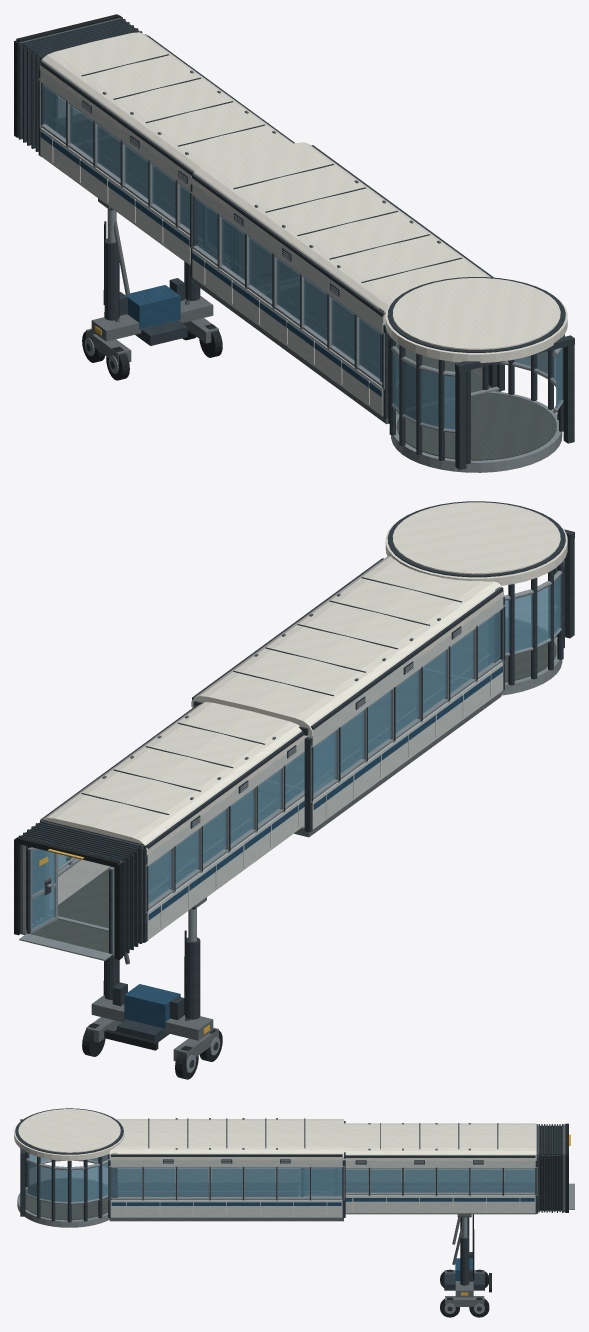
3 views of the same model, one above another, from view 1: azimuth 30°, elevation 25°; view 2: azimuth 150°, elevation 25°; view 3: azimuth 270°, elevation 25° (orthographic). The views are drawn at different scales.
Parts seen in each view (by area): view 1: VIS_Outer_VIS_Roof_Arched_Composite_Shell_003_78, VIS_Inner_VIS_Roof_Arched_Composite_Shell_003_219, VIS_Rotunda_VIS_Rotunda_Light_Stone_Roof_Center_005_5, VIS_Rotunda_VIS_Rotunda_Interior_Floor_002_2, VIS_Outer_VIS_Outer_Lower_Panel_005_80, VIS_Outer_VIS_Floor_Ribbed_AntiSlip_002_77, VIS_Inner_VIS_Outer_Lower_Panel_005_221, VIS_Inner_VIS_Floor_Ribbed_AntiSlip_002_218, VIS_Outer_VIS_Upper_Spandrel_007_82, VIS_Rotunda_VIS_Terminal_Rotunda_Base_Ring_001_1, VIS_Inner_VIS_Upper_Spandrel_007_223, VIS_Rotunda_VIS_Rotunda_Fascia_Roof_003_3 (+34 smaller); view 2: VIS_Outer_VIS_Roof_Arched_Composite_Shell_003_78, VIS_Inner_VIS_Roof_Arched_Composite_Shell_003_219, VIS_Rotunda_VIS_Rotunda_Light_Stone_Roof_Center_005_5, VIS_Inner_VIS_Floor_Ribbed_AntiSlip_002_218, VIS_Outer_VIS_Outer_Lower_Panel_005_80, VIS_Inner_VIS_Outer_Lower_Panel_005_221, VIS_Outer_VIS_Floor_Ribbed_AntiSlip_002_77, VIS_Outer_VIS_Upper_Spandrel_007_82, VIS_Rotunda_VIS_Rotunda_Interior_Floor_002_2, VIS_Inner_VIS_Upper_Spandrel_007_223, VIS_Bogie_VIS_Bogie_Central_Steering_Unit_031_390, VIS_DoorRight_VIS_Door_Tempered_Glass_Leaf_001_472 (+34 smaller); view 3: VIS_Outer_VIS_Roof_Arched_Composite_Shell_003_78, VIS_Inner_VIS_Roof_Arched_Composite_Shell_003_219, VIS_Rotunda_VIS_Rotunda_Light_Stone_Roof_Center_005_5, VIS_Outer_VIS_Outer_Lower_Panel_060_135, VIS_Inner_VIS_Outer_Lower_Panel_060_276, VIS_Inner_VIS_Outer_Lower_Panel_005_221, VIS_Outer_VIS_Outer_Lower_Panel_005_80, VIS_Rotunda_VIS_Rotunda_Interior_Floor_002_2, VIS_Outer_VIS_Floor_Ribbed_AntiSlip_002_77, VIS_Outer_VIS_Upper_Spandrel_062_137, VIS_Inner_VIS_Floor_Ribbed_AntiSlip_002_218, VIS_Inner_VIS_Upper_Spandrel_062_278 (+34 smaller).
Boxes of the visible parts, x1=… form: VIS_Outer_VIS_Roof_Arched_Composite_Shell_003_78: x1=191, y1=142, x2=490, y2=322; VIS_Inner_VIS_Roof_Arched_Composite_Shell_003_219: x1=39, y1=32, x2=293, y2=179; VIS_Rotunda_VIS_Rotunda_Light_Stone_Roof_Center_005_5: x1=392, y1=278, x2=560, y2=349; VIS_Rotunda_VIS_Rotunda_Interior_Floor_002_2: x1=396, y1=392, x2=556, y2=460; VIS_Outer_VIS_Outer_Lower_Panel_005_80: x1=192, y1=249, x2=383, y2=416; VIS_Outer_VIS_Floor_Ribbed_AntiSlip_002_77: x1=267, y1=284, x2=491, y2=407; VIS_Inner_VIS_Outer_Lower_Panel_005_221: x1=40, y1=127, x2=230, y2=268; VIS_Inner_VIS_Floor_Ribbed_AntiSlip_002_218: x1=79, y1=138, x2=299, y2=286; VIS_Outer_VIS_Upper_Spandrel_007_82: x1=192, y1=183, x2=385, y2=333; VIS_Rotunda_VIS_Terminal_Rotunda_Base_Ring_001_1: x1=391, y1=391, x2=562, y2=472; VIS_Inner_VIS_Upper_Spandrel_007_223: x1=40, y1=69, x2=191, y2=191; VIS_Rotunda_VIS_Rotunda_Fascia_Roof_003_3: x1=385, y1=295, x2=567, y2=362; VIS_Outer_VIS_Roof_Arched_Composite_Shell_003_78: x1=191, y1=556, x2=503, y2=736; VIS_Inner_VIS_Roof_Arched_Composite_Shell_003_219: x1=42, y1=702, x2=308, y2=854; VIS_Rotunda_VIS_Rotunda_Light_Stone_Roof_Center_005_5: x1=392, y1=502, x2=560, y2=574; VIS_Inner_VIS_Floor_Ribbed_AntiSlip_002_218: x1=50, y1=783, x2=299, y2=928; VIS_Outer_VIS_Outer_Lower_Panel_005_80: x1=312, y1=662, x2=503, y2=829; VIS_Inner_VIS_Outer_Lower_Panel_005_221: x1=147, y1=776, x2=332, y2=939; VIS_Outer_VIS_Floor_Ribbed_AntiSlip_002_77: x1=269, y1=671, x2=464, y2=787; VIS_Outer_VIS_Upper_Spandrel_007_82: x1=308, y1=596, x2=503, y2=746; VIS_Rotunda_VIS_Rotunda_Interior_Floor_002_2: x1=425, y1=619, x2=556, y2=682; VIS_Inner_VIS_Upper_Spandrel_007_223: x1=147, y1=740, x2=304, y2=865; VIS_Bogie_VIS_Bogie_Central_Steering_Unit_031_390: x1=124, y1=984, x2=180, y2=1028; VIS_DoorRight_VIS_Door_Tempered_Glass_Leaf_001_472: x1=32, y1=849, x2=55, y2=929; VIS_Outer_VIS_Roof_Arched_Composite_Shell_003_78: x1=109, y1=1119, x2=343, y2=1160; VIS_Inner_VIS_Roof_Arched_Composite_Shell_003_219: x1=344, y1=1123, x2=536, y2=1160; VIS_Rotunda_VIS_Rotunda_Light_Stone_Roof_Center_005_5: x1=18, y1=1109, x2=120, y2=1152; VIS_Outer_VIS_Outer_Lower_Panel_060_135: x1=110, y1=1200, x2=342, y2=1217; VIS_Inner_VIS_Outer_Lower_Panel_060_276: x1=304, y1=1195, x2=535, y2=1213; VIS_Inner_VIS_Outer_Lower_Panel_005_221: x1=311, y1=1168, x2=534, y2=1181; VIS_Outer_VIS_Outer_Lower_Panel_005_80: x1=118, y1=1168, x2=300, y2=1182; VIS_Rotunda_VIS_Rotunda_Interior_Floor_002_2: x1=25, y1=1179, x2=107, y2=1220; VIS_Outer_VIS_Floor_Ribbed_AntiSlip_002_77: x1=118, y1=1183, x2=300, y2=1196; VIS_Outer_VIS_Upper_Spandrel_062_137: x1=110, y1=1157, x2=342, y2=1167; VIS_Inner_VIS_Floor_Ribbed_AntiSlip_002_218: x1=346, y1=1182, x2=534, y2=1192; VIS_Inner_VIS_Upper_Spandrel_062_278: x1=345, y1=1158, x2=535, y2=1167.
Size of the model in its own units: 4.32 by 7.38 by 21.8.
Materials: 12 (12 with a texture image).
